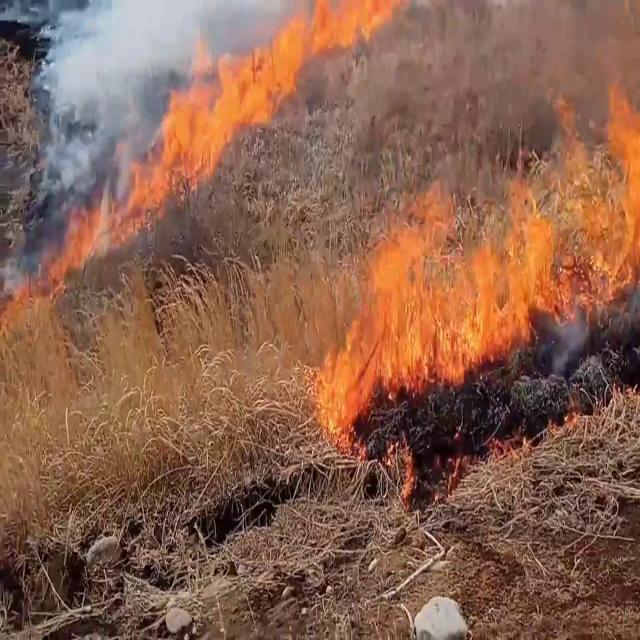Fire: (319, 36, 640, 441), (130, 7, 312, 211), (30, 166, 129, 301)
Smoke: (43, 0, 202, 185)
